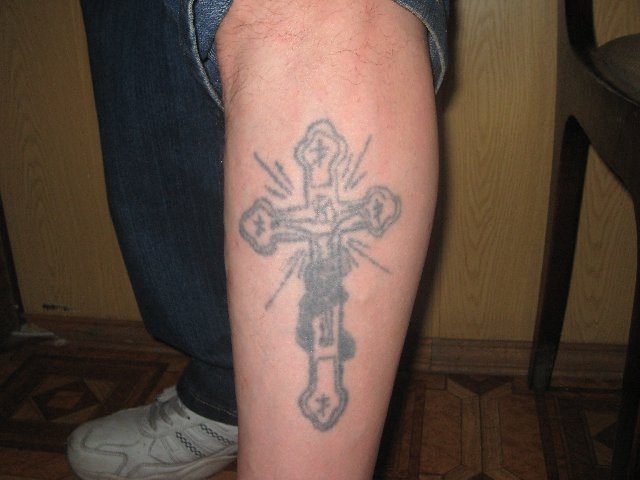tatu9_krest: (231, 118, 399, 430)
